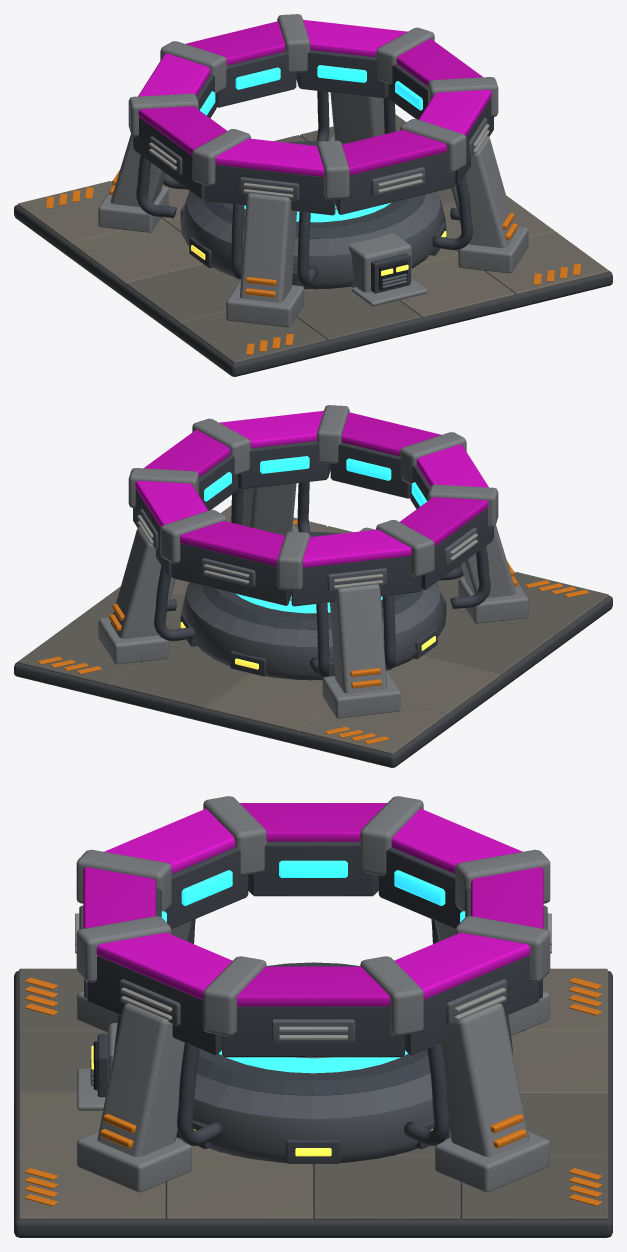
The model's file is shield-generator.glb.
3 views of the same model, one above another, from view 1: azimuth 30°, elevation 25°; view 2: azimuth 150°, elevation 25°; view 3: azimuth 270°, elevation 25° (orthographic). The views are drawn at different scales.
Visible parts, largest first — view 1: Shield-Generator.001; view 2: Shield-Generator.001; view 3: Shield-Generator.001.
Boxes of the visible parts, x1=… form: Shield-Generator.001: x1=14, y1=14, x2=612, y2=376; Shield-Generator.001: x1=14, y1=405, x2=612, y2=767; Shield-Generator.001: x1=14, y1=796, x2=612, y2=1237.
Size of the model in its own units: 3.94 by 1.59 by 3.94.
